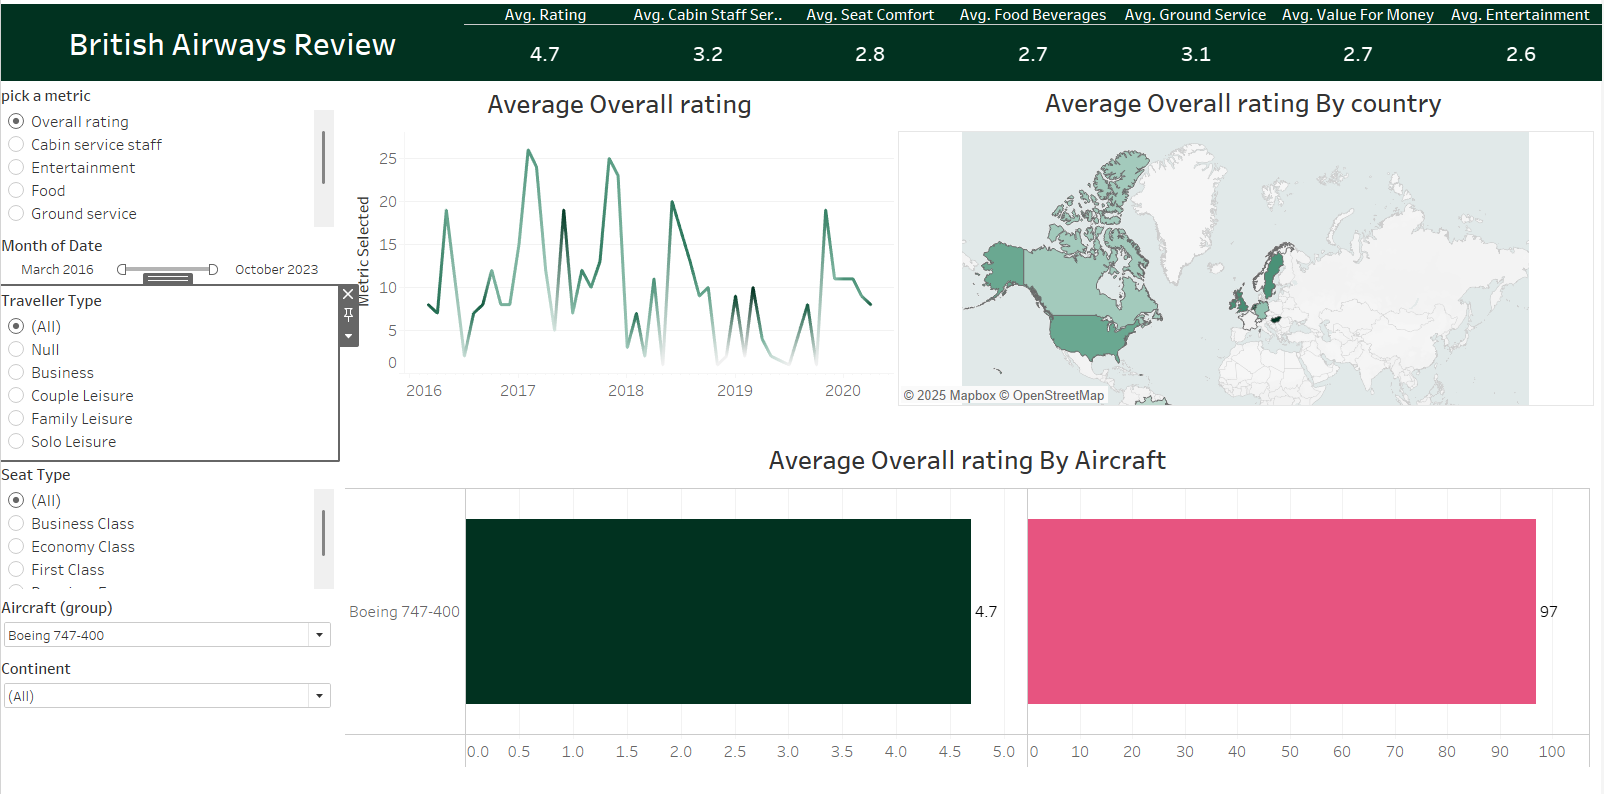

What the dashboard file says about the page in this screenshot:
{"tool":"tableau","page":{"name":"Dashboard 1","canvas":[1600,800],"ordinal":0},"visuals":[{"type":"text","box":[0,4.6,462.7,77.7]},{"type":"worksheet","title":"summary","mark":"Automatic","box":[462.7,4.6,1138.7,77.7]},{"type":"worksheet","title":"map","mark":"Automatic","box":[897.3,82.3,696,324.6]},{"type":"worksheet","title":"months","mark":"Automatic","rows":["Calculation_198721389763747843"],"cols":["date"],"box":[344,83.4,549.3,321.1]},{"type":"worksheet","title":"aircraft","mark":"Automatic","cols":["Calculation_198721389763747843","ba_reviews.csv_D9DBC11159ED45C59C66EE8C237E0D23"],"box":[344,438.9,1245.3,331.4]}]}

Visuals, with their boxes in screenshot pixels (x1, y1, x2, y2), scaled from the page's 1600x800 canvas onto the 1604x794 screenshot:
text: locate(0, 5, 464, 82)
"summary" worksheet: locate(464, 5, 1603, 82)
"map" worksheet: locate(900, 82, 1597, 404)
"months" worksheet: locate(345, 83, 896, 401)
"aircraft" worksheet: locate(345, 436, 1593, 765)
